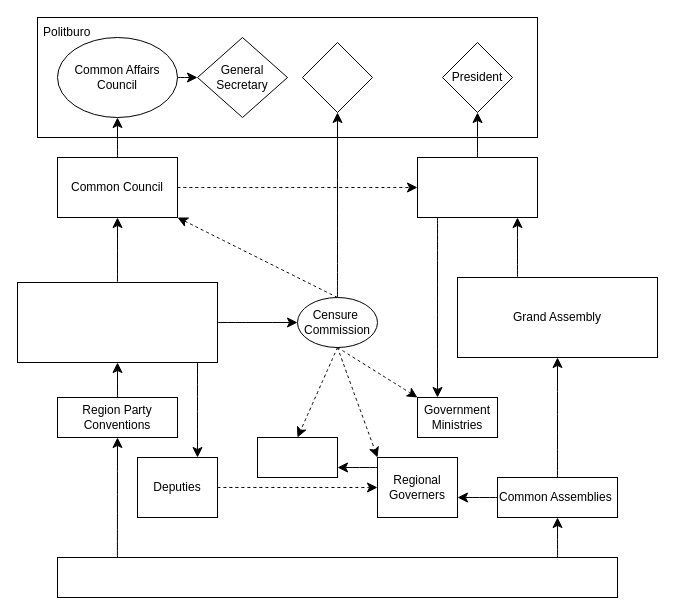
The diagram is 675 pixels wide and 615 high, and some of its shapes have lost their labels. The centre of each missing label's shape, as x and y in pixels:
Administrative Assembly: pixel 477 187
Censure Chair: pixel 337 77
Party Plenary General Convention: pixel 117 322
Regional Ministries: pixel 297 457
Voters: pixel 337 577
